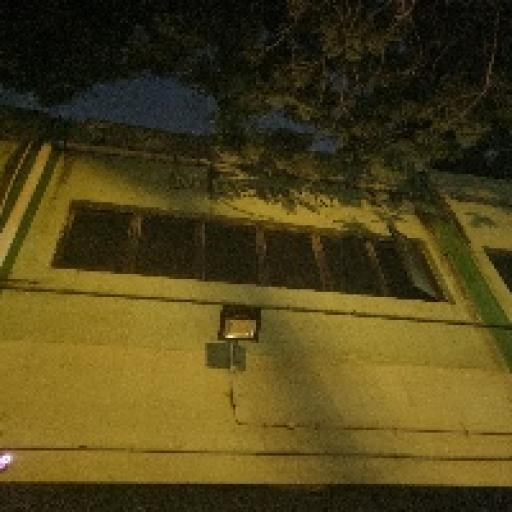Not Working: (207, 295, 274, 358)
